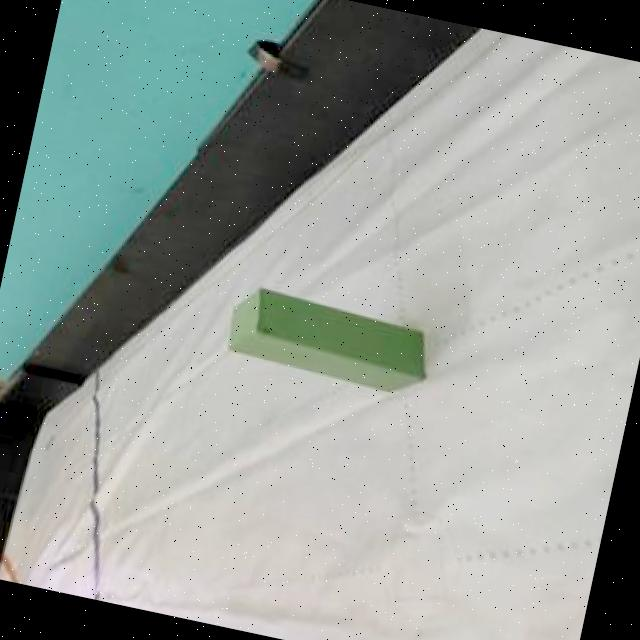greenbox: (221, 279, 442, 402)
